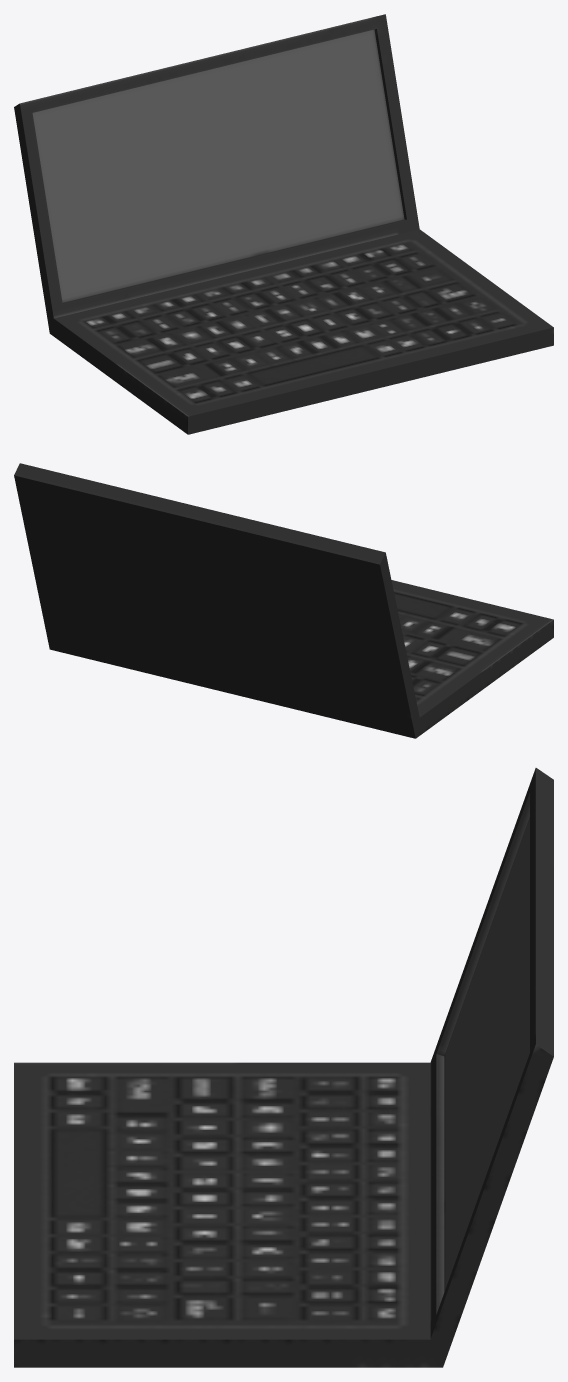
File: Laptop.fbx
3 views of the same model, one above another, from view 1: azimuth 30°, elevation 25°; view 2: azimuth 150°, elevation 25°; view 3: azimuth 270°, elevation 25° (orthographic). The views are drawn at different scales.
Parts seen in each view (by area): view 1: laptop; view 2: laptop; view 3: laptop.
Boxes of the visible parts, x1,y1,x2,y2 form: laptop: (14,14,553,434); laptop: (14,463,553,738); laptop: (14,768,553,1367).
Bounding box in the file's own units: 0.2035 × 0.1107 × 0.1677.
Materials: 1 (1 with a texture image).
